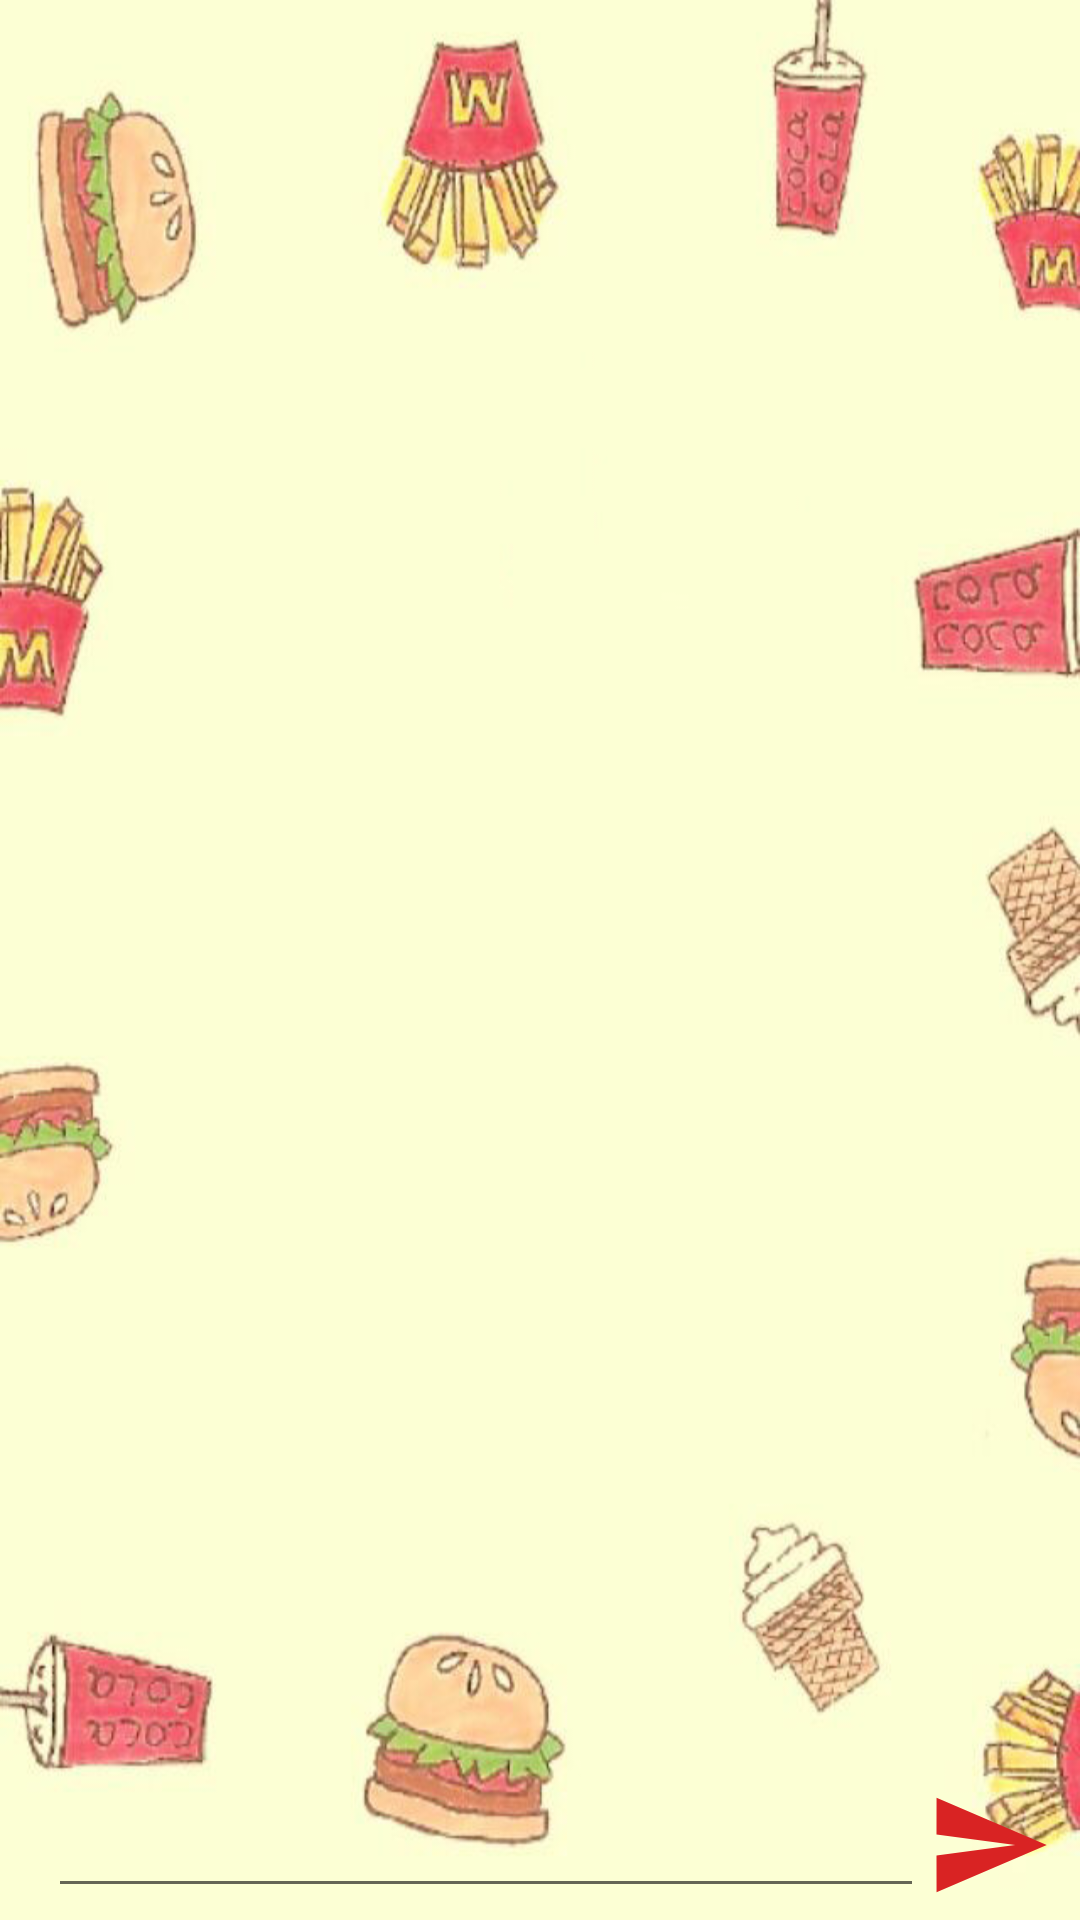

Icon click points for this 1080w x 1920h phone screenshot, format [x,y]:
send: [994,1837]
